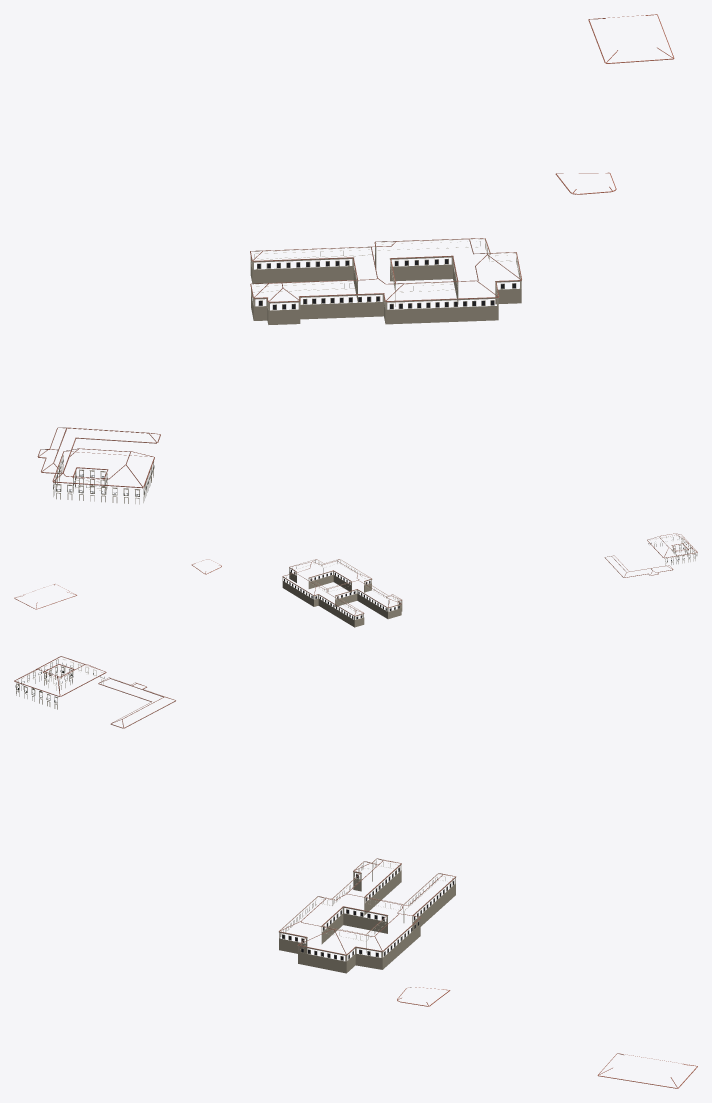
3 views of the same model, one above another, from view 1: azimuth 30°, elevation 25°; view 2: azimuth 150°, elevation 25°; view 3: azimuth 270°, elevation 25° (orthographic). The views are drawn at different scales.
Visible parts, largest first — view 1: detail; view 2: detail; view 3: detail.
Part boxes in pixels (x1,y1,x2,y2): detail: (37, 14, 674, 504); detail: (14, 533, 697, 627); detail: (14, 656, 697, 1088).
Size of the model in its own units: 429 by 38.46 by 318.
